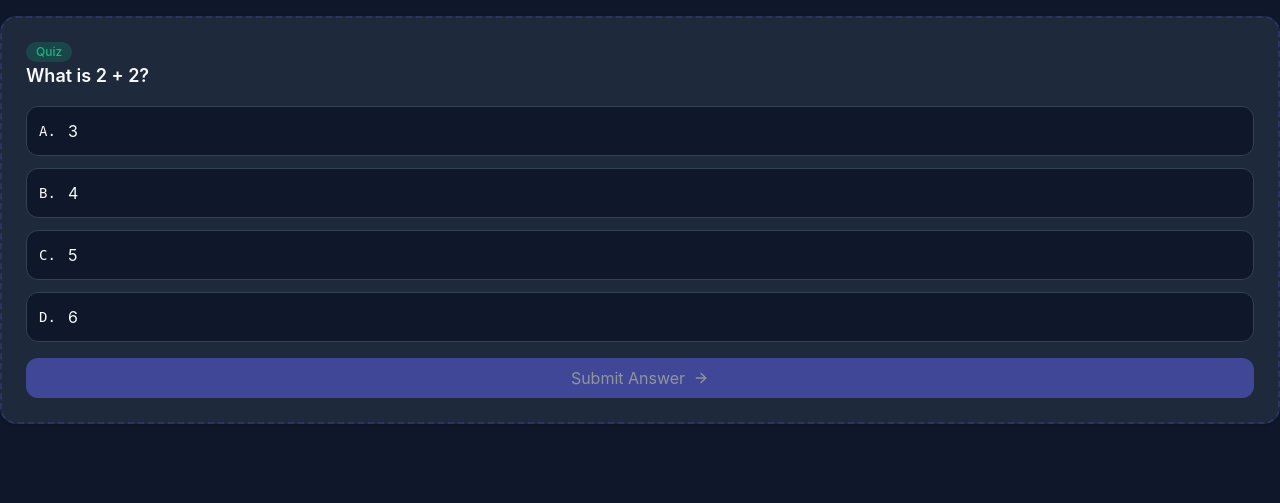
Test: QuizWidget › shows correct feedback for correct answer
What coordinates should you click on to do the following:
click the text "4"
I would click on:
 (73, 193)
Its box is [68, 181, 78, 205].
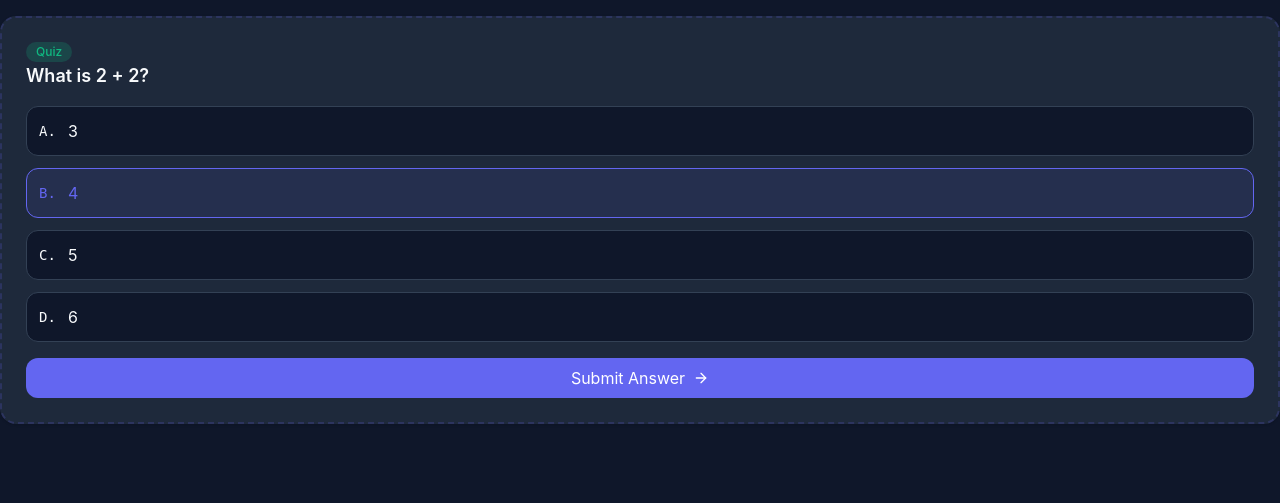
What coordinates should you click on to do the following:
click the button "Submit Answer"
I would click on:
 (640, 378)
Its box is [26, 358, 1254, 398].
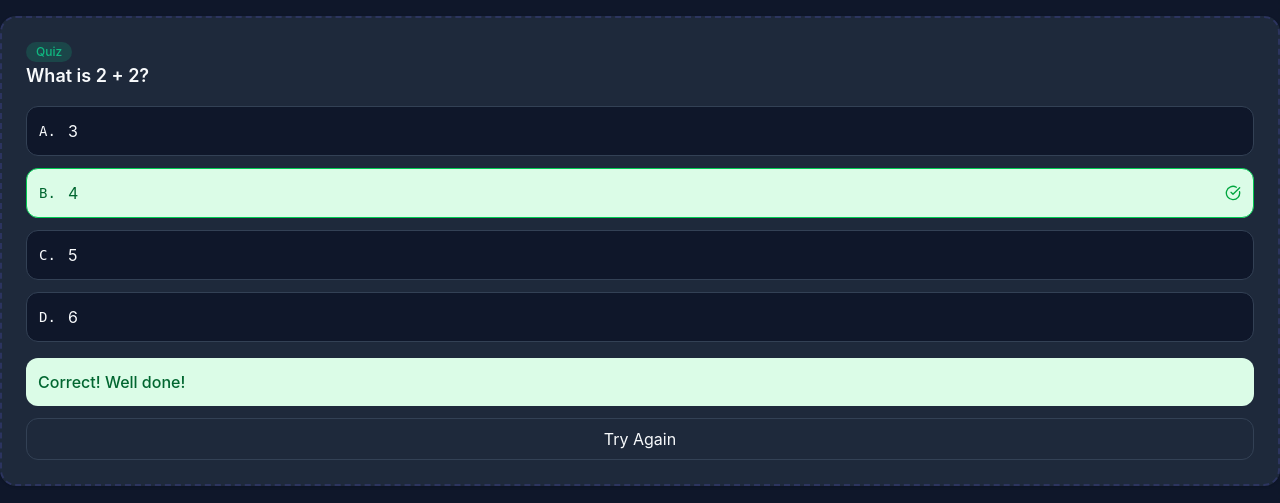
Now the text "Correct! Well done!" is shown, box [38, 372, 185, 392]
